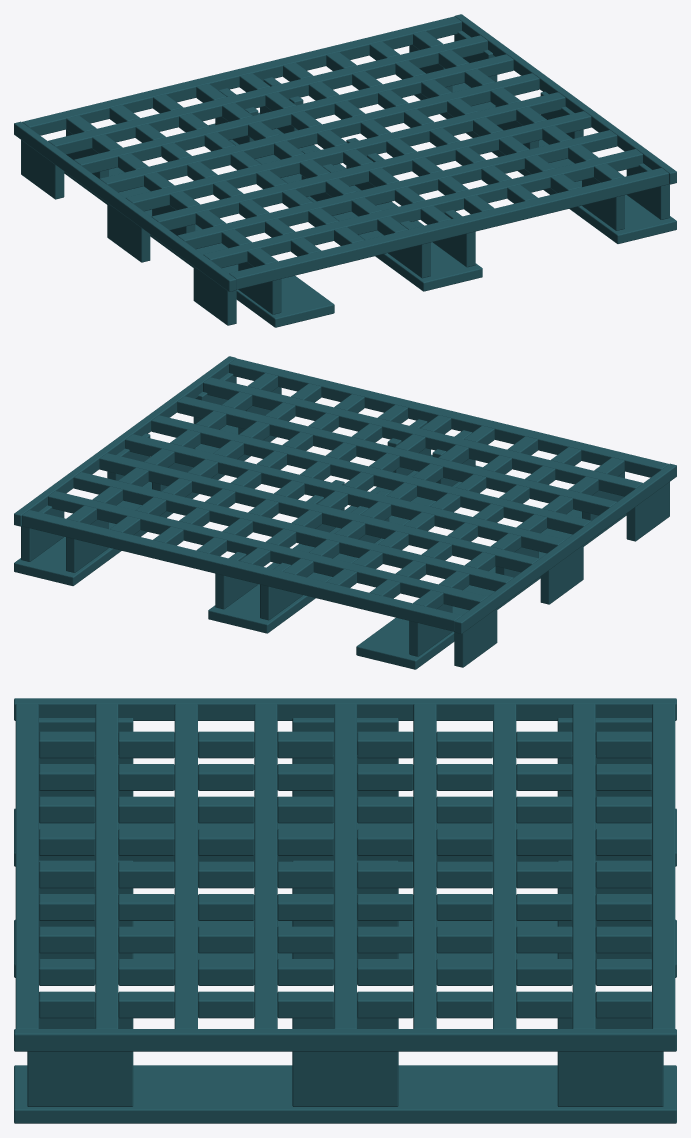
The model's file is source-edit.glb.
3 views of the same model, one above another, from view 1: azimuth 30°, elevation 25°; view 2: azimuth 150°, elevation 25°; view 3: azimuth 270°, elevation 25° (orthographic). The views are drawn at different scales.
Parts seen in each view (by area): view 1: Deck_Rib_X, Deck_Rib_X.003, Deck_Rib_X.005, Deck_Rib_X.006, Deck_Rib_X.002, Deck_Rib_X.008, Deck_Rib_X.001, Deck_Rib_X.007, Deck_Rib_X.004, Deck_Edge, Bottom_Runner.001, Bottom_Runner.002 (+10 smaller); view 2: Deck_Rib_X.008, Deck_Rib_X.005, Deck_Rib_X.003, Deck_Rib_X.002, Deck_Rib_X.006, Deck_Rib_X, Deck_Rib_X.007, Deck_Rib_X.001, Deck_Rib_X.004, Deck_Edge, Bottom_Runner.001, Bottom_Runner.002 (+10 smaller); view 3: Bottom_Runner, Deck_Edge.001, Deck_Edge, Deck_Rib_X.003, Deck_Rib_X.005, Deck_Rib_X, Deck_Rib_X.001, Deck_Rib_X.002, Deck_Rib_X.006, Deck_Rib_X.007, Deck_Rib_X.008, Deck_Rib_X.004 (+90 smaller).
Part boxes in pixels (bbox=[...]): Deck_Rib_X: bbox=[229, 168, 668, 289]; Deck_Rib_X.003: bbox=[151, 111, 591, 230]; Deck_Rib_X.005: bbox=[100, 73, 539, 192]; Deck_Rib_X.006: bbox=[74, 54, 513, 173]; Deck_Rib_X.002: bbox=[177, 130, 617, 249]; Deck_Rib_X.008: bbox=[22, 16, 461, 135]; Deck_Rib_X.001: bbox=[203, 149, 642, 268]; Deck_Rib_X.007: bbox=[48, 35, 487, 154]; Deck_Rib_X.004: bbox=[126, 92, 565, 211]; Deck_Edge: bbox=[14, 121, 236, 291]; Bottom_Runner.001: bbox=[64, 167, 334, 327]; Bottom_Runner.002: bbox=[208, 112, 482, 291]; Deck_Rib_X.008: bbox=[22, 510, 461, 631]; Deck_Rib_X.005: bbox=[99, 453, 539, 572]; Deck_Rib_X.003: bbox=[151, 415, 590, 534]; Deck_Rib_X.002: bbox=[177, 396, 616, 515]; Deck_Rib_X.006: bbox=[73, 472, 513, 591]; Deck_Rib_X: bbox=[229, 358, 668, 477]; Deck_Rib_X.007: bbox=[48, 491, 487, 610]; Deck_Rib_X.001: bbox=[203, 377, 642, 496]; Deck_Rib_X.004: bbox=[125, 434, 564, 553]; Deck_Edge: bbox=[454, 463, 676, 633]; Bottom_Runner.001: bbox=[356, 509, 626, 669]; Bottom_Runner.002: bbox=[208, 454, 482, 633]; Bottom_Runner: bbox=[14, 1065, 676, 1123]; Deck_Edge.001: bbox=[14, 1029, 676, 1051]; Deck_Edge: bbox=[14, 698, 676, 720]; Deck_Rib_X.003: bbox=[254, 704, 277, 1028]; Deck_Rib_X.005: bbox=[413, 704, 436, 1028]; Deck_Rib_X: bbox=[15, 704, 38, 1028]; Deck_Rib_X.001: bbox=[95, 704, 118, 1028]; Deck_Rib_X.002: bbox=[174, 704, 197, 1028]; Deck_Rib_X.006: bbox=[493, 704, 516, 1028]; Deck_Rib_X.007: bbox=[572, 704, 595, 1028]; Deck_Rib_X.008: bbox=[652, 704, 675, 1028]; Deck_Rib_X.004: bbox=[334, 704, 356, 1028].
Size of the model in its own units: 1.2 by 0.15 by 1.
